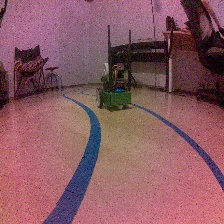rob: (95, 62, 132, 110)
